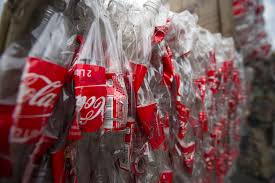Coca-Cola: (10, 68, 65, 110), (64, 89, 107, 125), (118, 59, 151, 95), (131, 102, 159, 131), (103, 95, 129, 126), (121, 121, 138, 141)
bottle: (8, 2, 75, 175), (151, 8, 200, 174), (72, 3, 116, 176), (139, 7, 172, 174), (181, 30, 220, 166), (200, 32, 236, 173), (117, 1, 145, 174), (99, 4, 121, 169)
plastic: (2, 2, 253, 179)
